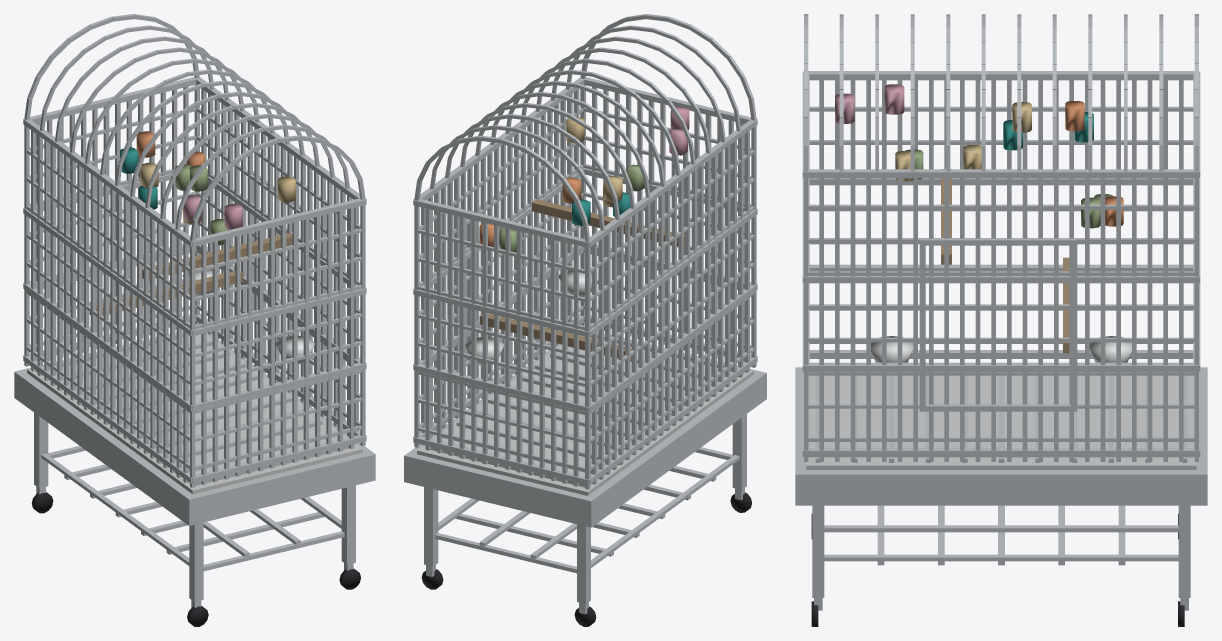
File: rios_birdcage.glb
3 views of the same model, side by side, from view 1: azimuth 30°, elevation 25°; view 2: azimuth 150°, elevation 25°; view 3: azimuth 270°, elevation 25° (orthographic). The views are drawn at different scales.
Visible parts, largest first — view 1: root; view 2: root; view 3: root.
Part boxes in pixels (<box>): root: <box>14,14,375,626</box>; root: <box>404,14,766,626</box>; root: <box>795,14,1207,626</box>.
Bounding box in the file's own units: 0.634 × 1.53 × 1.03.
